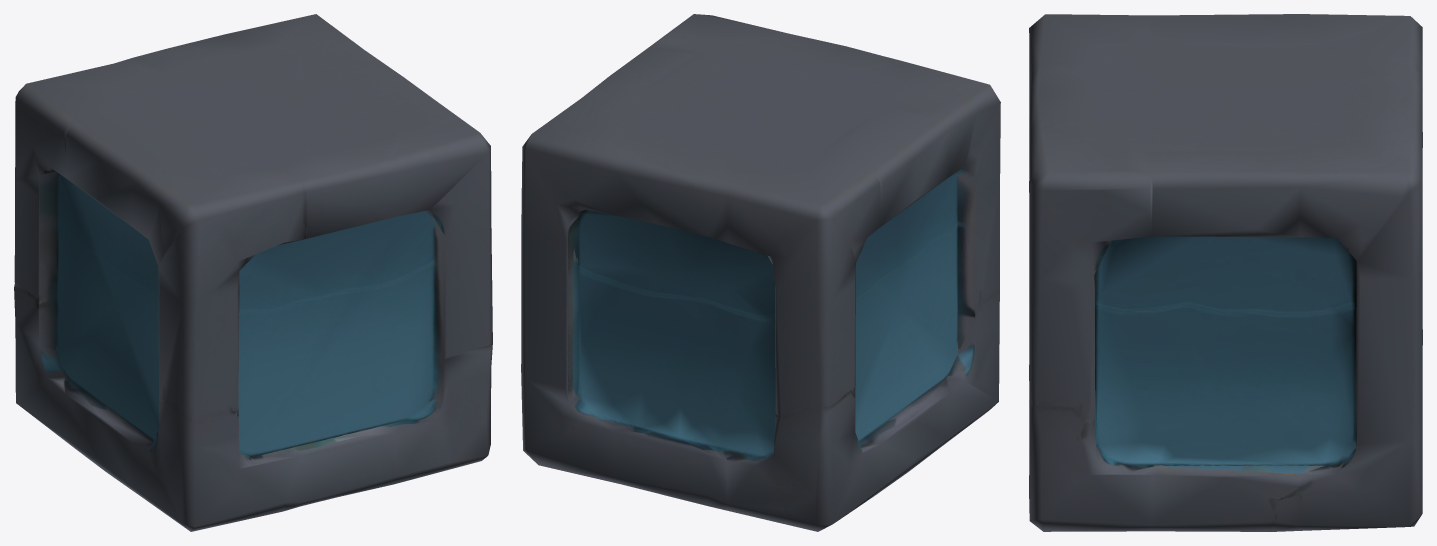
3 renders of one model, left to right at view 1: azimuth 30°, elevation 25°; view 2: azimuth 150°, elevation 25°; view 3: azimuth 270°, elevation 25°, orthographic. The views are drawn at different scales.
Visible parts, largest first — view 1: tripo_node_34642a9e; view 2: tripo_node_34642a9e; view 3: tripo_node_34642a9e.
Boxes of the visible parts, x1,y1,x2,y2 form: tripo_node_34642a9e: (14,14,492,531); tripo_node_34642a9e: (521,14,1000,531); tripo_node_34642a9e: (1029,14,1422,531).
Bounding box in the file's own units: 0.9921 × 0.9998 × 0.9896.
1 material, 1 textured.
